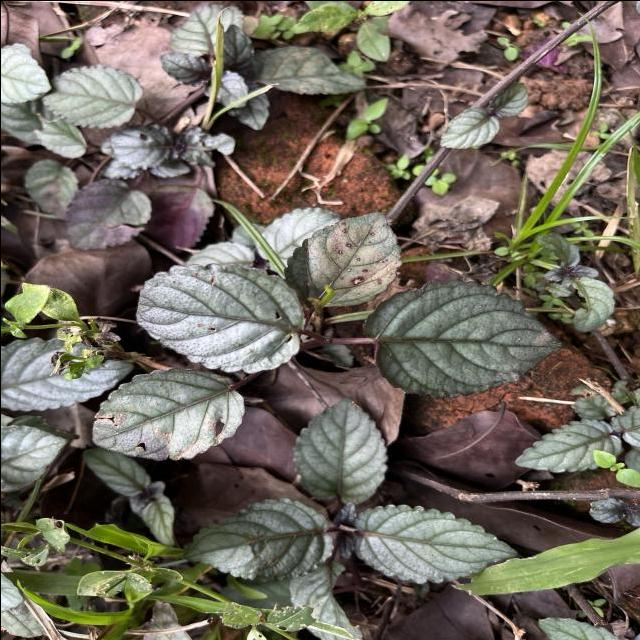Hemigraphis colorata: (356, 274, 566, 400), (130, 258, 306, 375), (90, 362, 246, 463), (348, 498, 520, 586), (178, 493, 336, 583), (279, 205, 404, 309), (290, 392, 390, 508), (511, 418, 625, 472), (0, 37, 52, 108)
